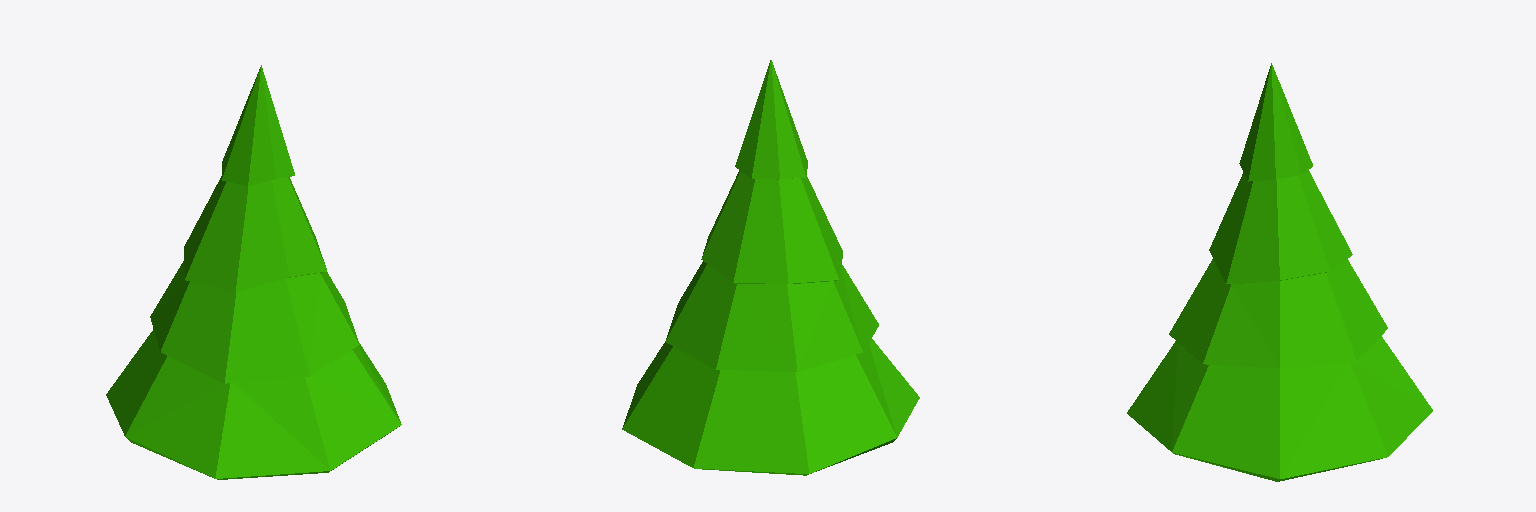
Rendered from spruce.obj.
3 renders of one model, left to right at view 1: azimuth 30°, elevation 25°; view 2: azimuth 150°, elevation 25°; view 3: azimuth 270°, elevation 25°, orthographic.
Parts seen in each view (by area): view 1: spruce pCone1; view 2: spruce pCone1; view 3: spruce pCone1.
Boxes of the visible parts, x1,y1,x2,y2 form: spruce pCone1: [106, 65, 401, 479]; spruce pCone1: [622, 60, 919, 475]; spruce pCone1: [1127, 63, 1432, 481].
Size of the model in its own units: 2.3 by 3.28 by 2.35.